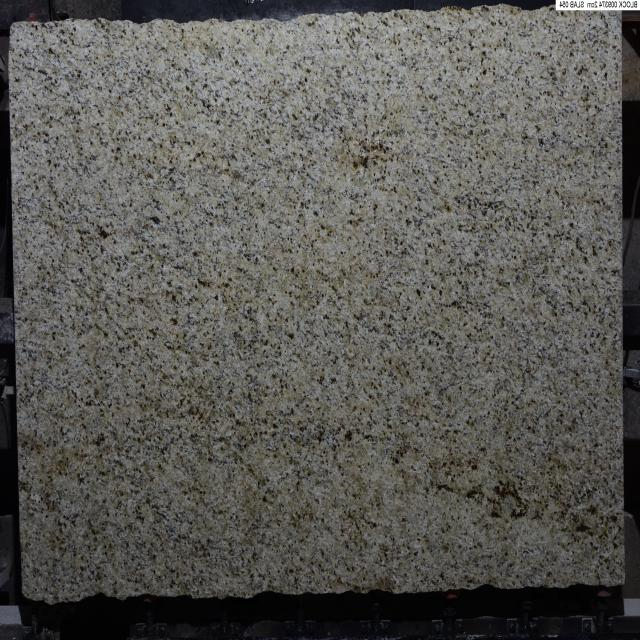chapa: (10, 6, 622, 603)
